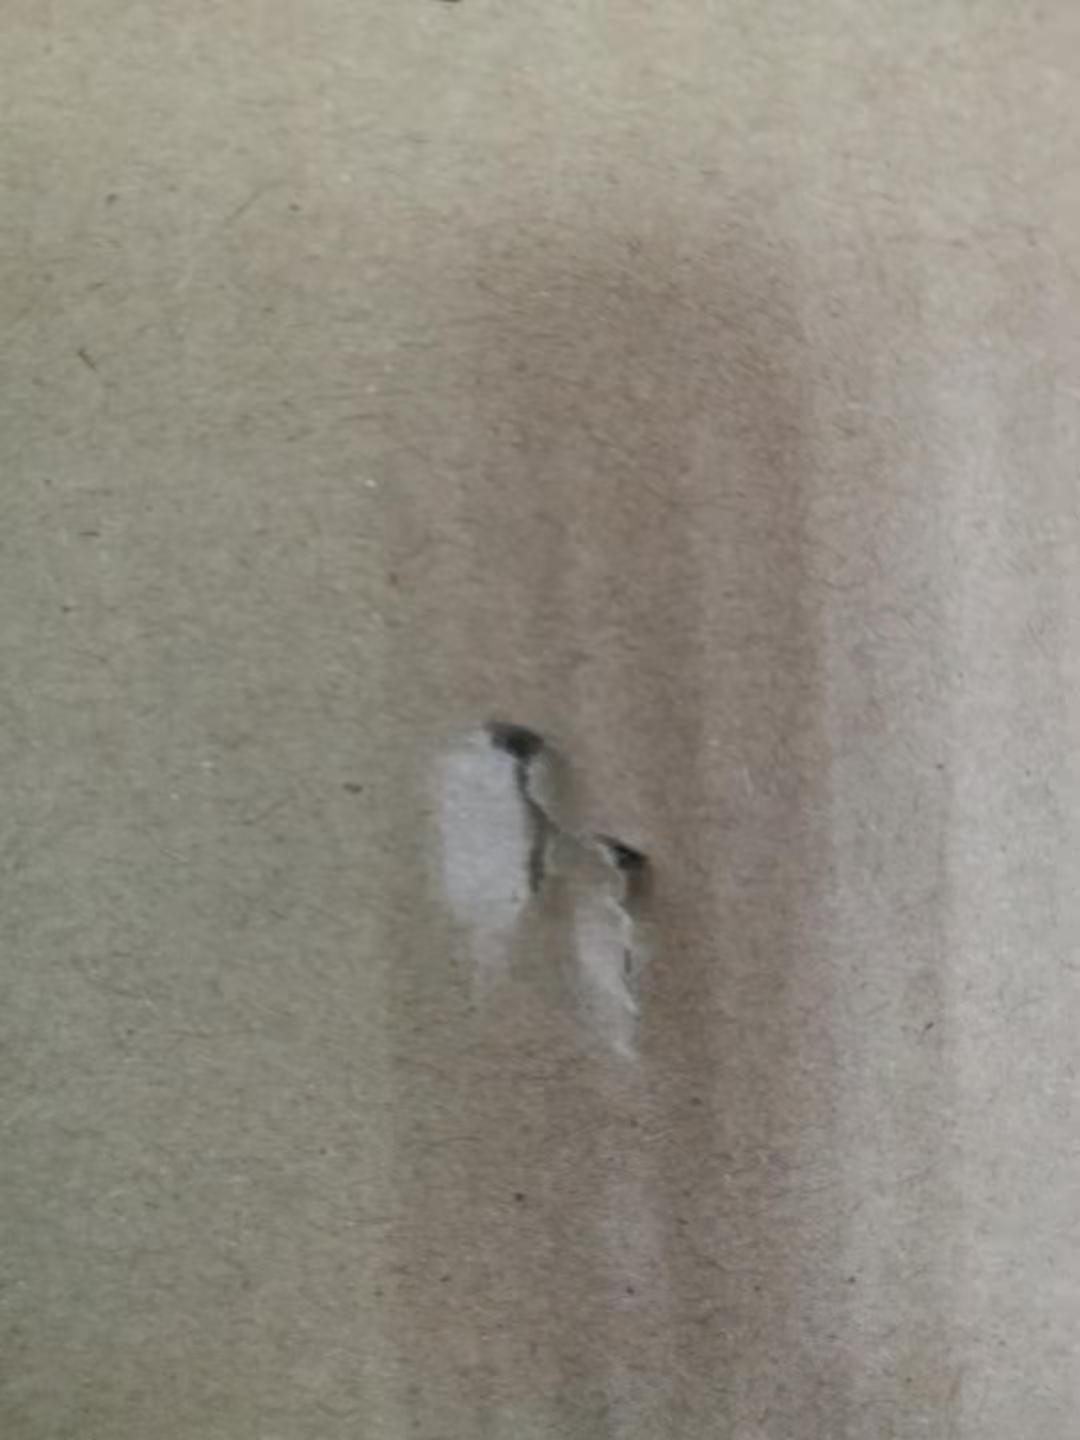defect: (376, 670, 737, 1125)
